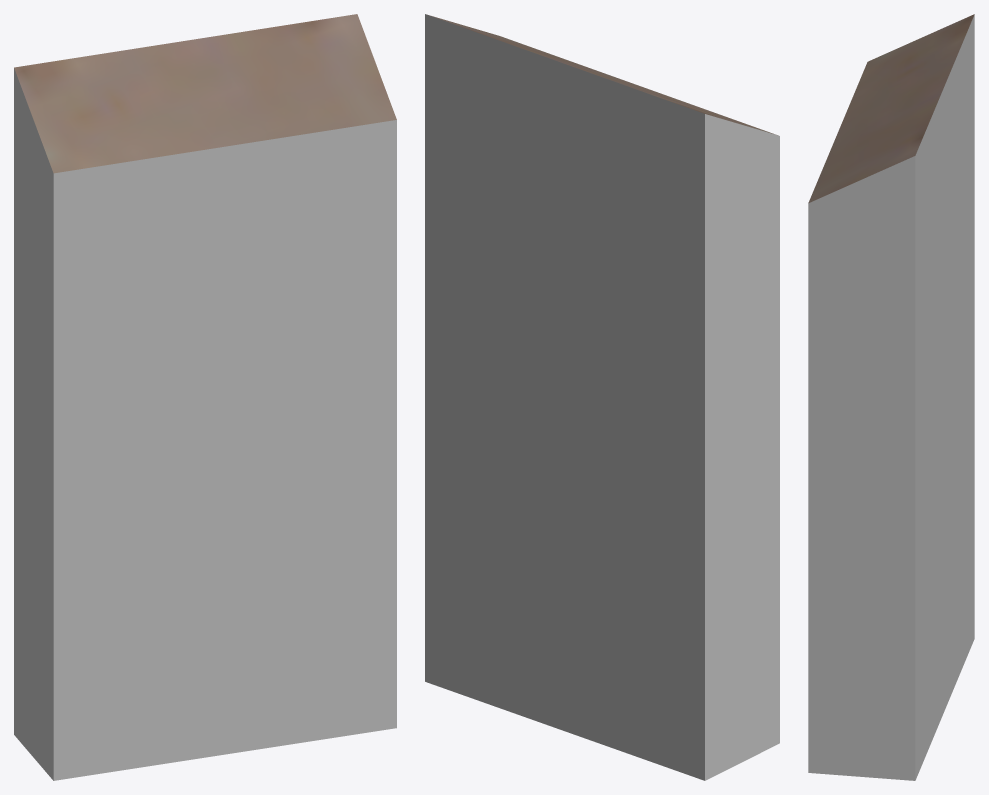
File: DEBW_0010007THZU.gltf
The picture shows the model from 3 angles, left to right: view 1: azimuth 30°, elevation 25°; view 2: azimuth 150°, elevation 25°; view 3: azimuth 270°, elevation 25°; orthographic projection. The views are drawn at different scales.
Visible parts, largest first — view 1: Z_UP; view 2: Z_UP; view 3: Z_UP.
Part boxes in pixels (<box>): Z_UP: <box>14,14,396,780</box>; Z_UP: <box>425,14,779,780</box>; Z_UP: <box>808,14,974,780</box>.
Bounding box in the file's own units: 5.58 × 10.81 × 2.61.
Materials: 2 (1 with a texture image).
